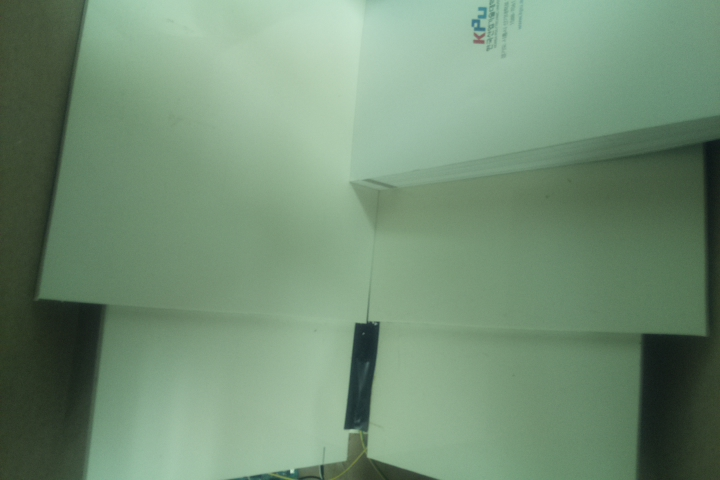book: (344, 1, 720, 197)
